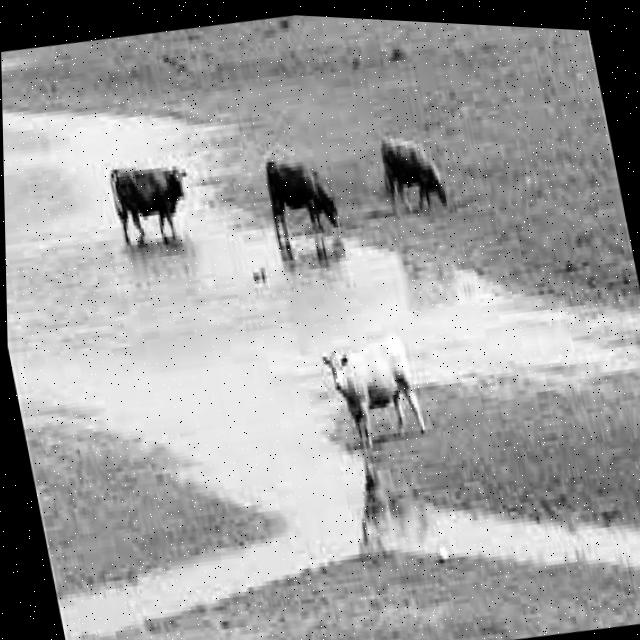cow: (310, 318, 441, 457), (94, 147, 204, 259), (365, 115, 468, 224), (253, 138, 351, 250)
